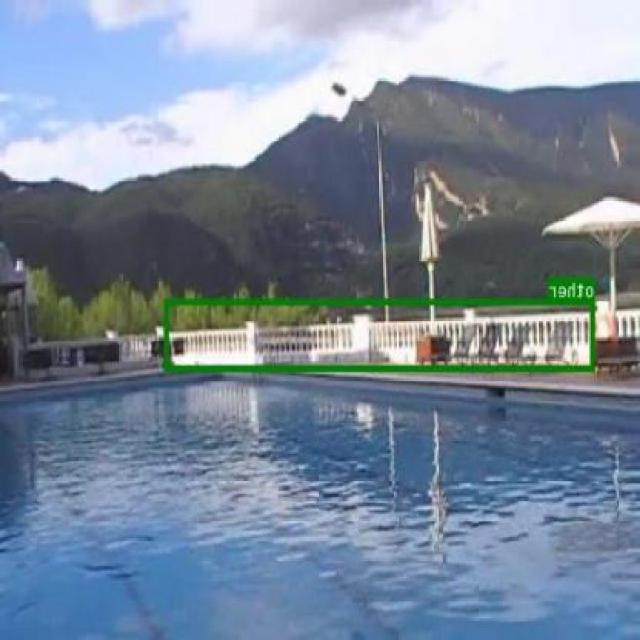other: (167, 298, 596, 370)
